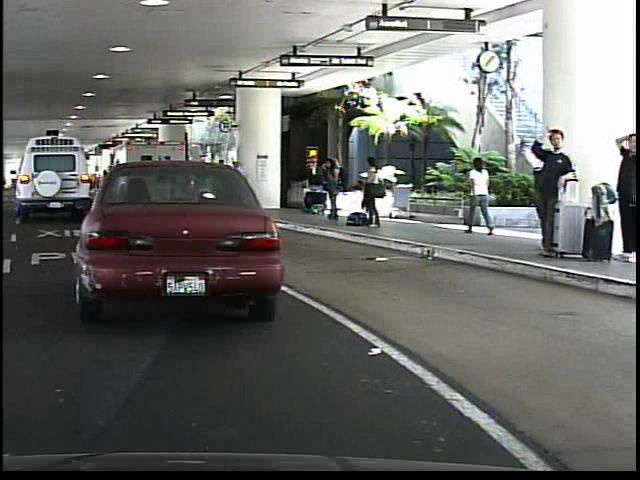person: (526, 121, 575, 259), (607, 125, 639, 268), (458, 154, 496, 235), (355, 155, 382, 229)
